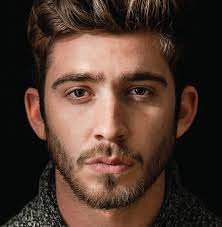s.white: (122, 102, 166, 149)
